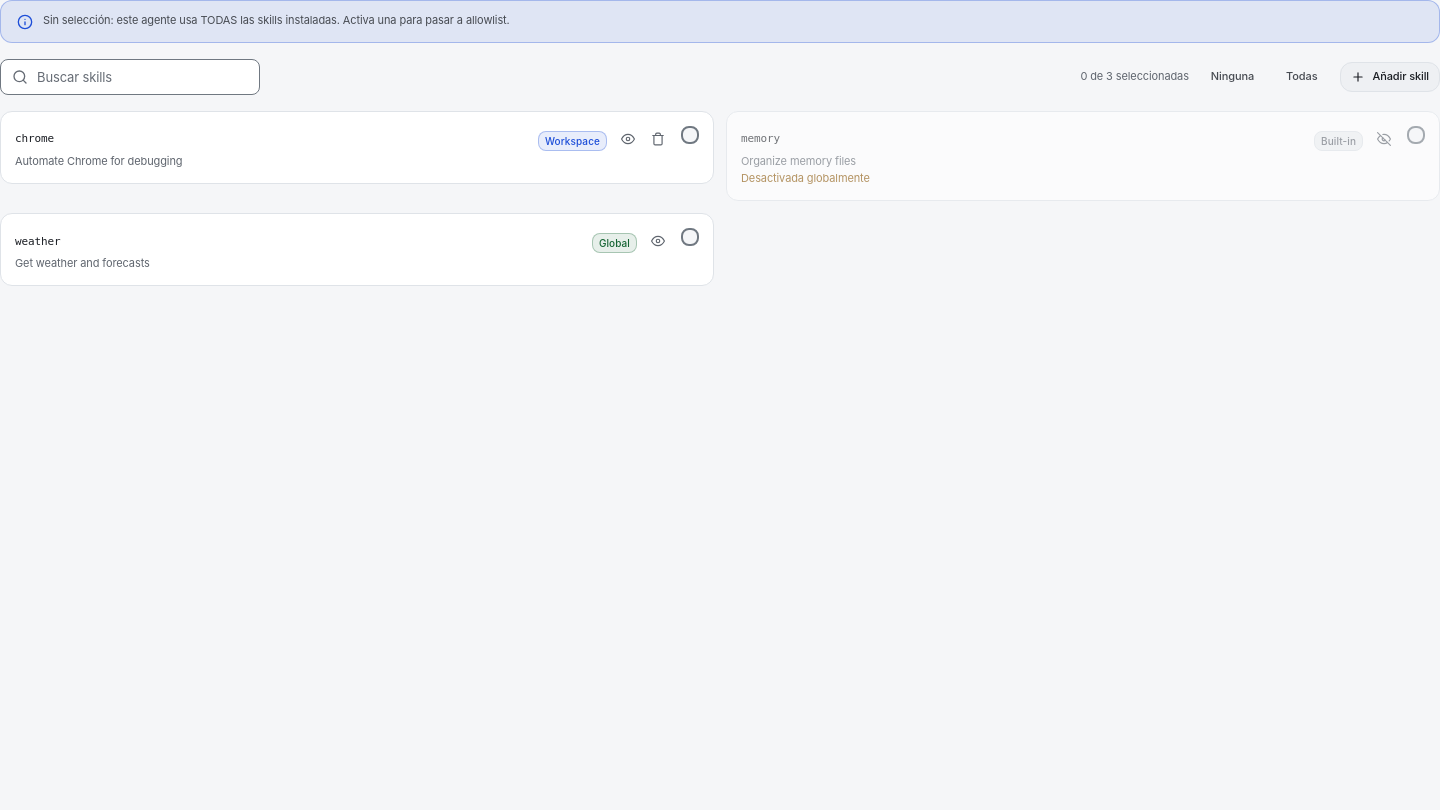
Test: AgentSkillsSection — install into the agent › the scope control prints the concrete workspace directory
Click the button "Añadir skill".
click(1390, 77)  # box [1340,62,1439,92]
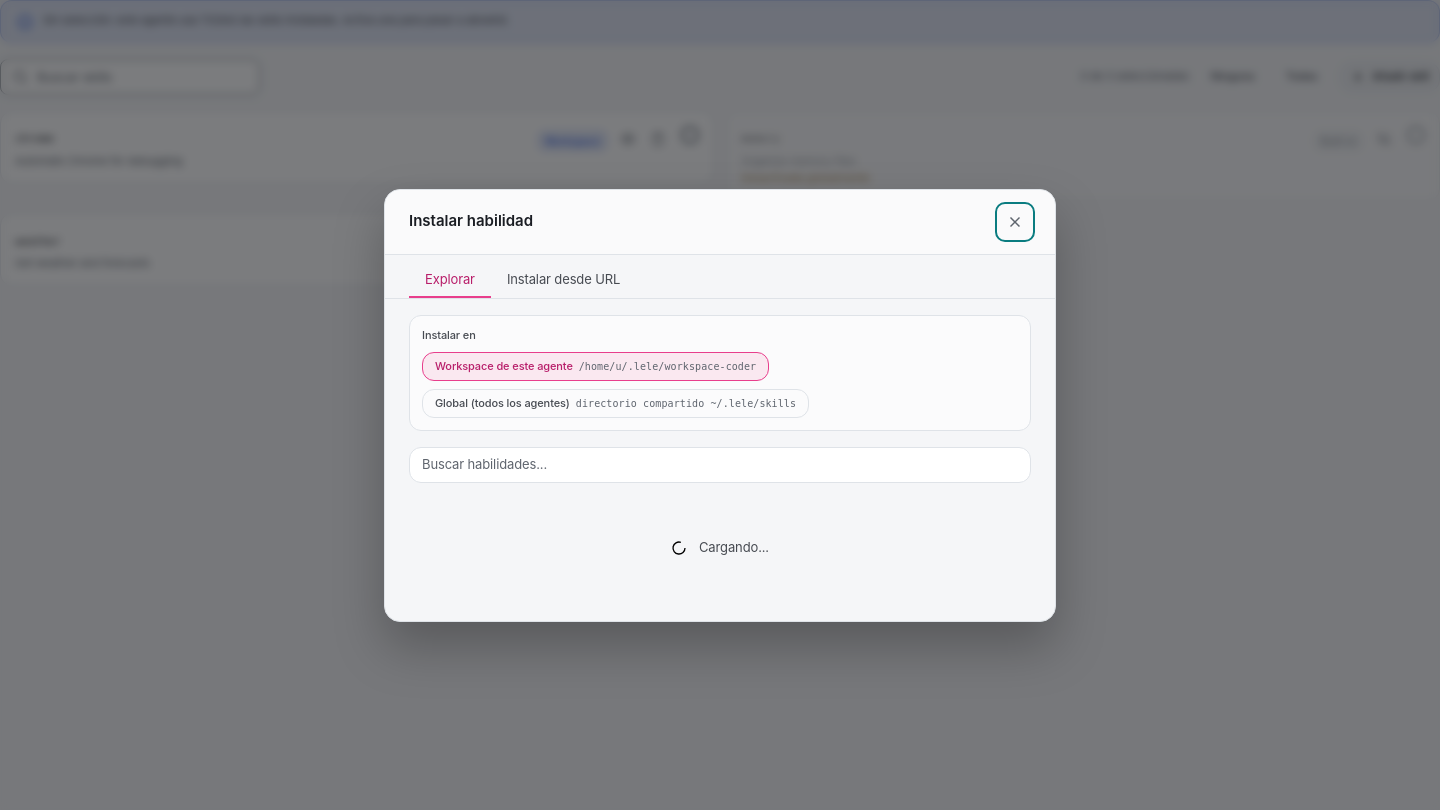
Expected: the element with test id "install-scope" is shown, [409,315,1031,431]
Expected: the button "Instalar desde URL" is shown
Click the button "Instalar desde URL".
click(564, 280)  # box [491,262,636,298]
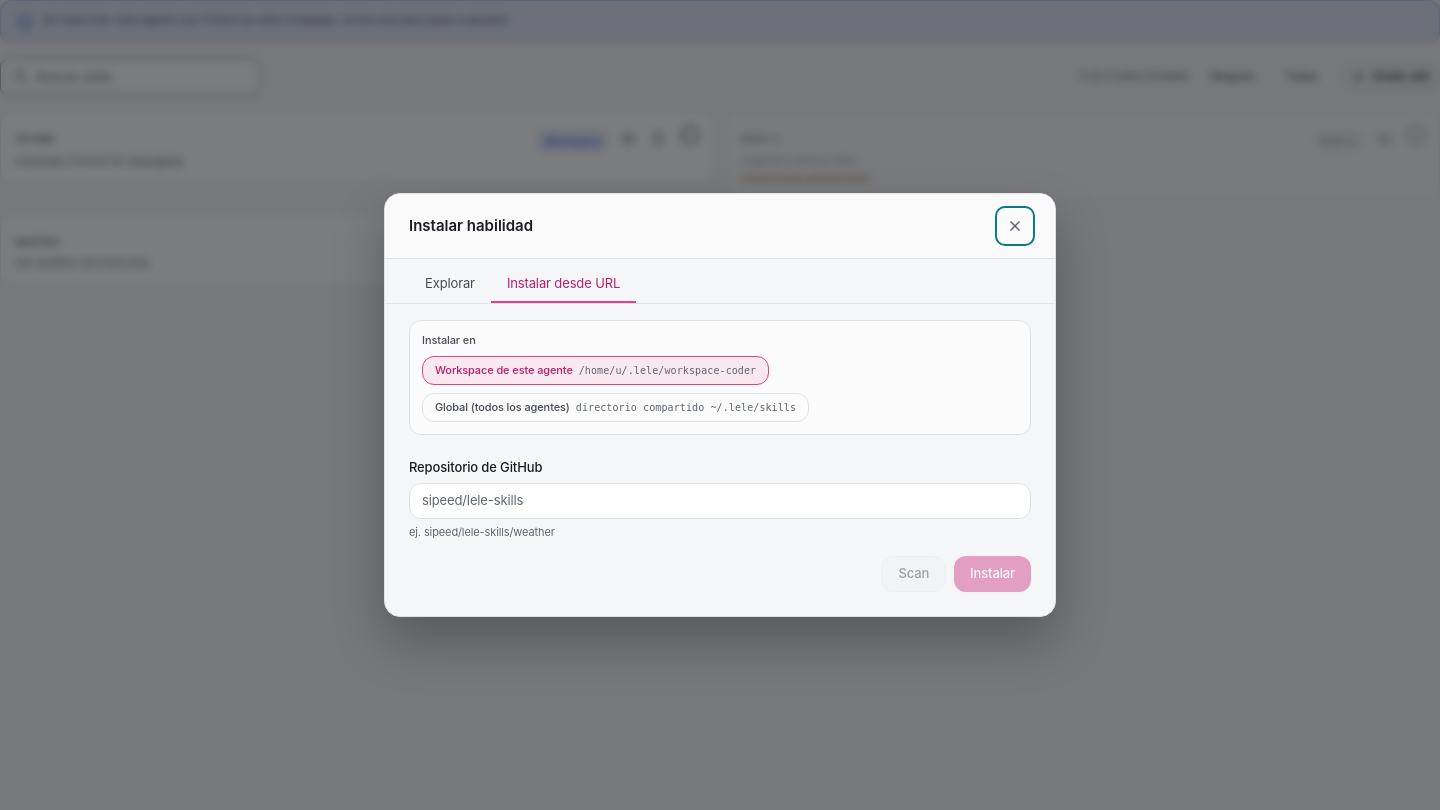
Expected: the button "Workspace de este agente/home/u/.lele/workspace-coder" is shown, [422,356,769,385]
Expected: the button with aria-label "directorio compartido ~/.lele/skills" shows "~/.lele/skills", [422,393,809,422]
Expected: the field with id "github-repo-input" is shown, [409,483,1031,519]
